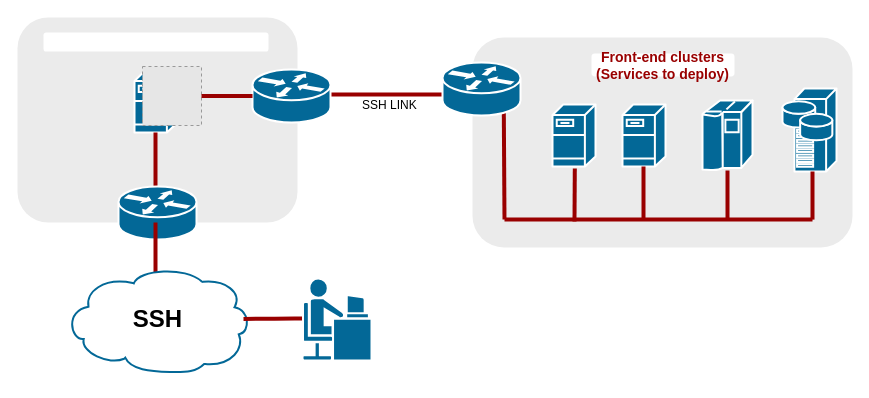
The diagram is 869 pixels wide and 398 high, and some of its shapes have lost their labels. Grey dashed boxes stand in for pictures. Here are the shapes that lost their labels. From the top down, the centre of each, then its label:
the point at 155,41: Ansible DMZ
the point at 336,319: You
